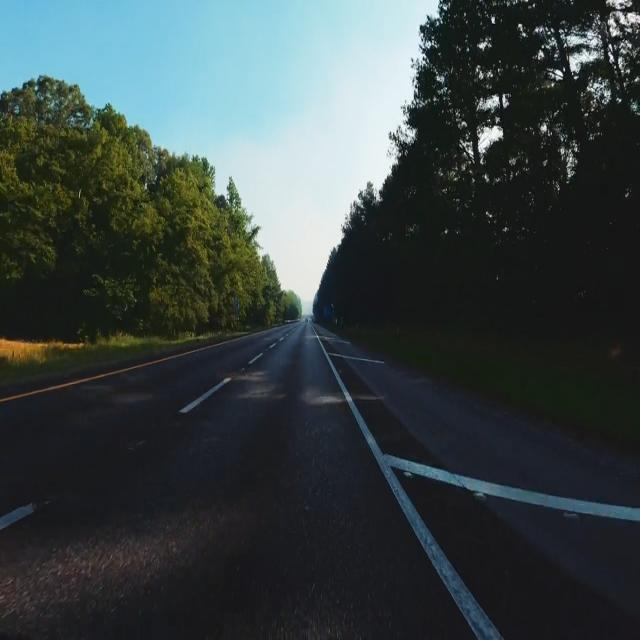asphalt: (0, 318, 640, 639)
